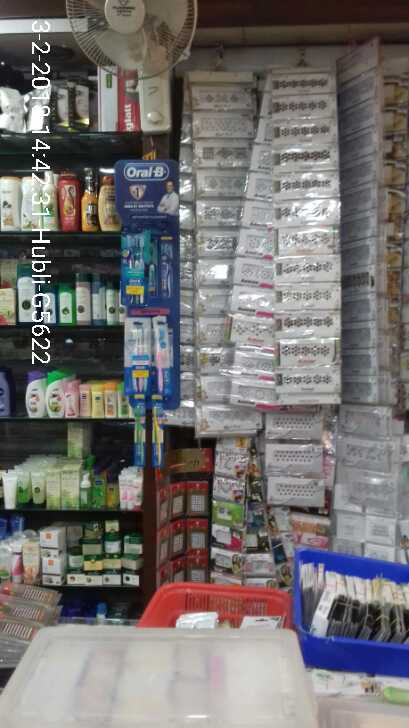oralb: (154, 311, 181, 408), (116, 227, 147, 309), (124, 315, 153, 402), (152, 230, 178, 302)
